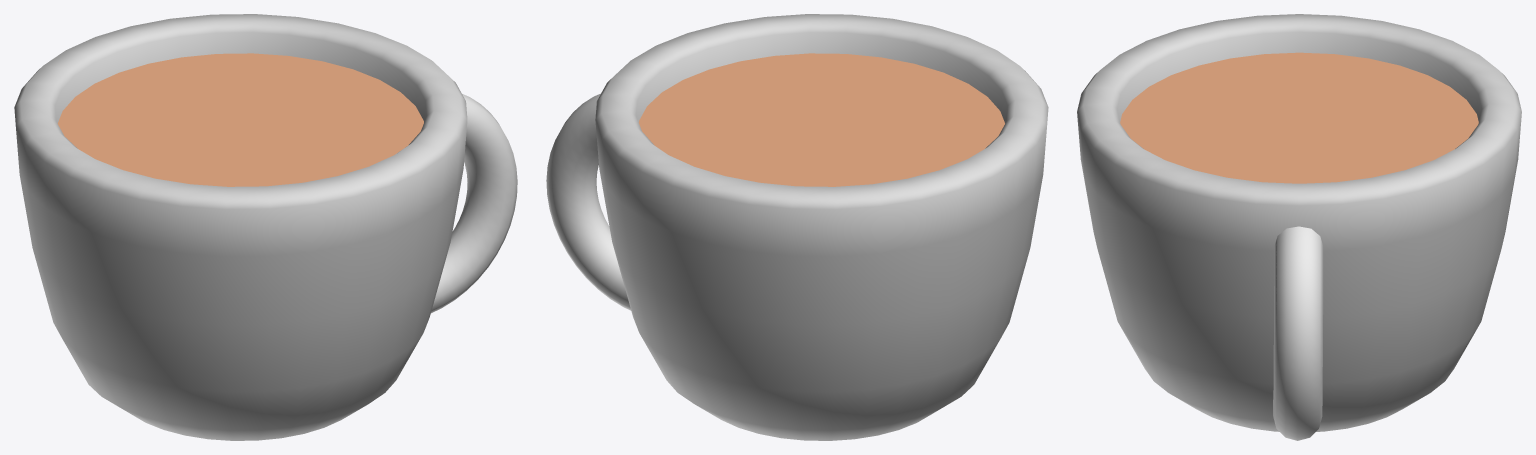
The model's file is coffeemug.fbx.
The picture shows the model from 3 angles, left to right: view 1: azimuth 30°, elevation 25°; view 2: azimuth 150°, elevation 25°; view 3: azimuth 270°, elevation 25°; orthographic projection. The views are drawn at different scales.
Parts seen in each view (by area): view 1: Sphere, Circle, Torus; view 2: Sphere, Circle, Torus; view 3: Sphere, Circle, Torus.
Boxes of the visible parts, left/top/right/bottom form: Sphere: left=14, top=14, right=467, bottom=440; Circle: left=57, top=53, right=423, bottom=186; Torus: left=431, top=94, right=517, bottom=313; Sphere: left=595, top=14, right=1048, bottom=440; Circle: left=638, top=53, right=1004, bottom=186; Torus: left=546, top=93, right=631, bottom=310; Sphere: left=1077, top=14, right=1521, bottom=431; Circle: left=1120, top=52, right=1478, bottom=183; Torus: left=1273, top=226, right=1323, bottom=440.
Size of the model in its own units: 238 by 141 by 200.
